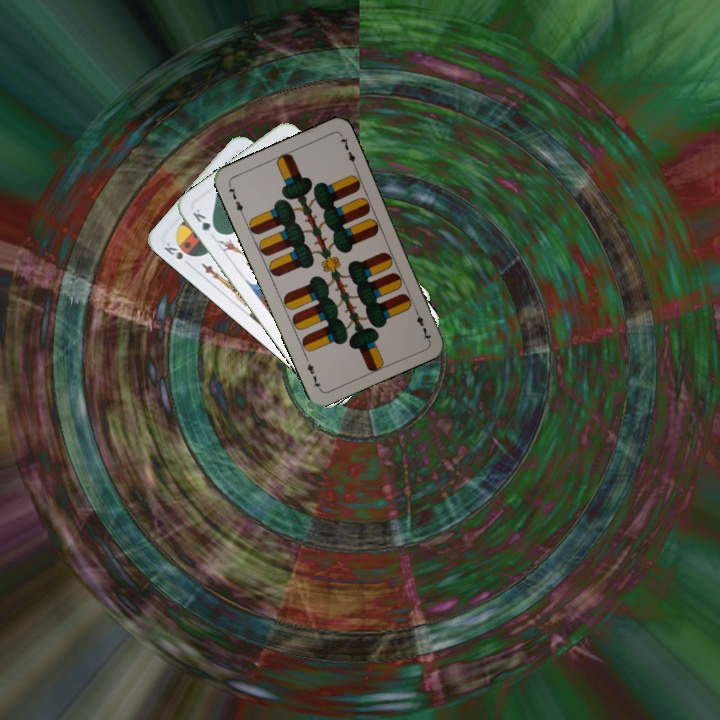E7: (224, 180, 247, 219), (411, 304, 434, 343)
GK: (188, 205, 221, 236)
SK: (159, 238, 186, 262)
